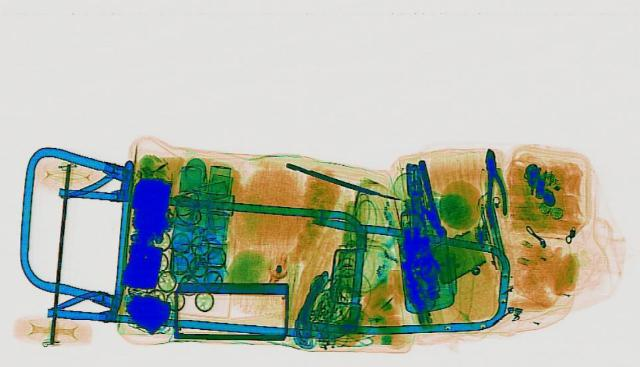Pliers: (479, 148, 511, 225)
